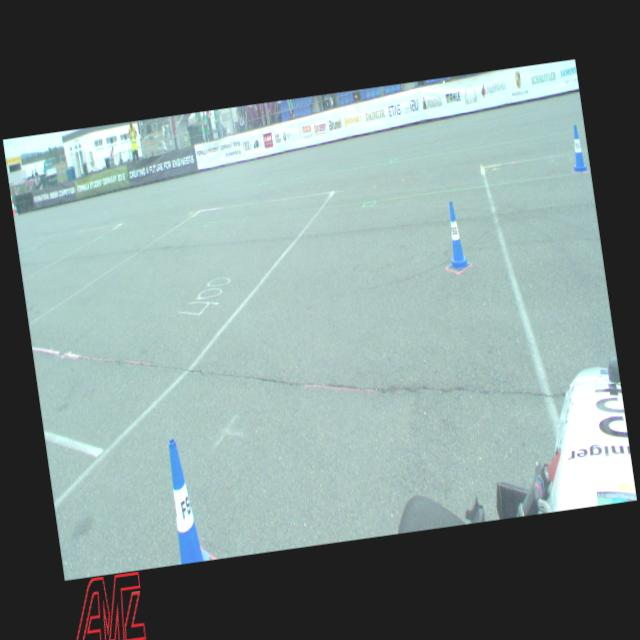blue_cone: (161, 435, 210, 565), (440, 199, 471, 272), (566, 124, 588, 172)
